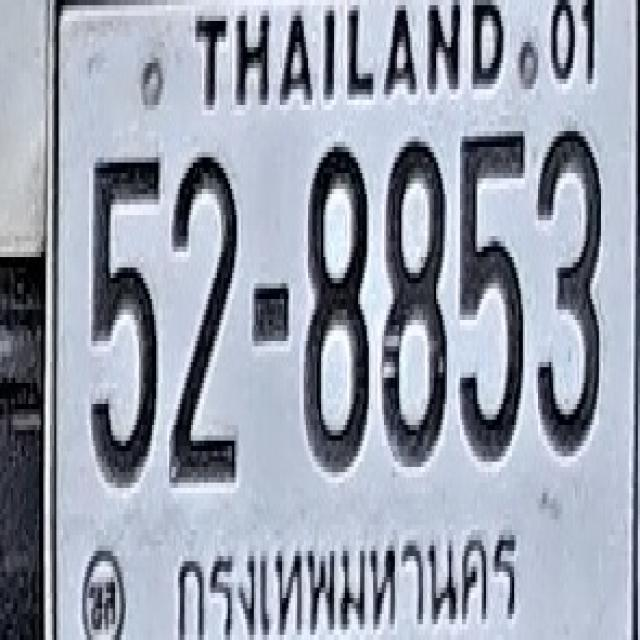2: (170, 150, 238, 480)
3: (536, 124, 601, 448)
5: (91, 150, 161, 485), (460, 123, 525, 459)
8: (304, 139, 369, 470), (382, 136, 447, 462)
BKK: (165, 514, 524, 640)
